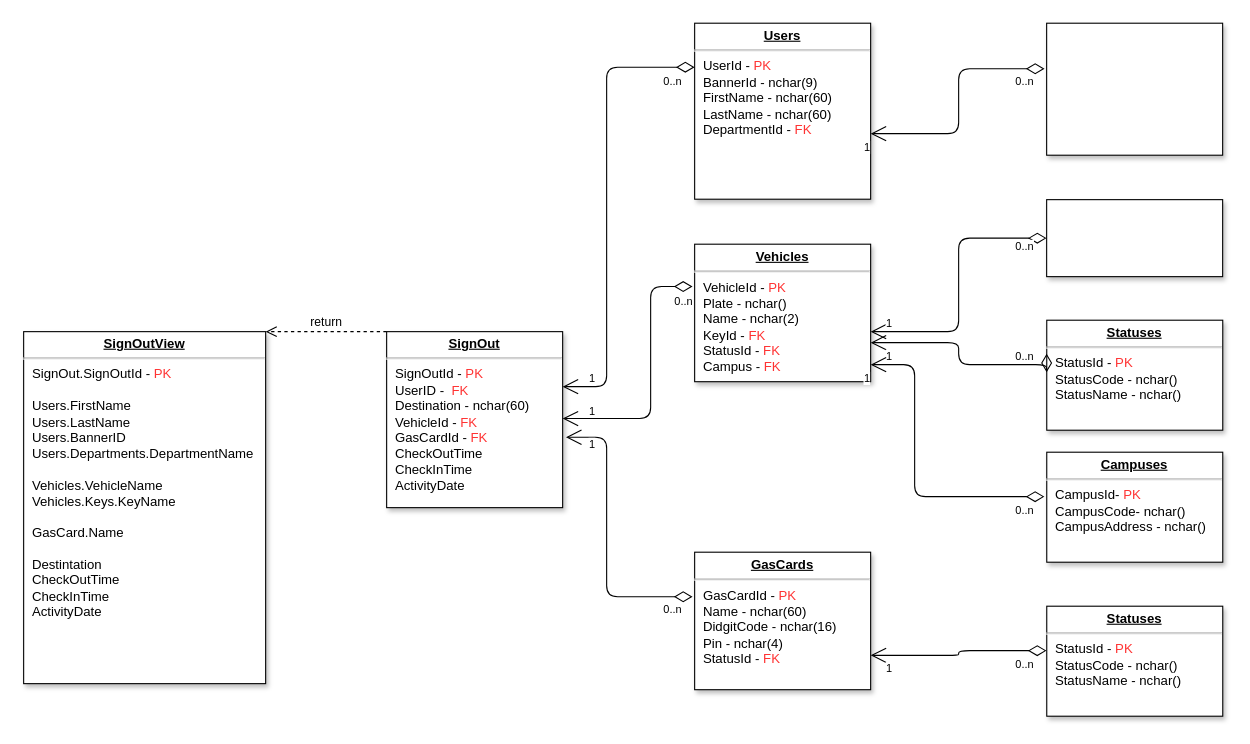
Image size: 1250x744. Some labels were removed from this diagram. The centre of each missing label's shape, as x and y in pixels:
Departments DepartmentId - PK DepartmentCode - nchar() DepartmentName - nchar(): pixel 1135 90
Keys KeyId - PK KeyName - nchar(5): pixel 1135 239
